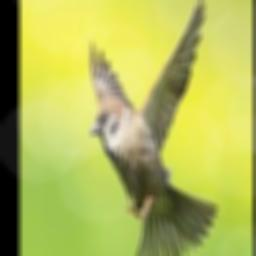Sparrow: (90, 0, 218, 256)
